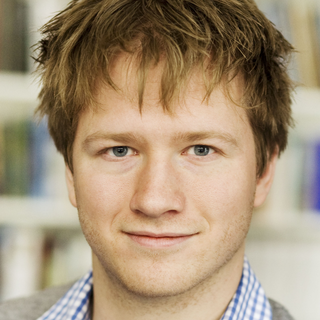eye: (176, 138, 227, 166), (93, 140, 144, 166)
